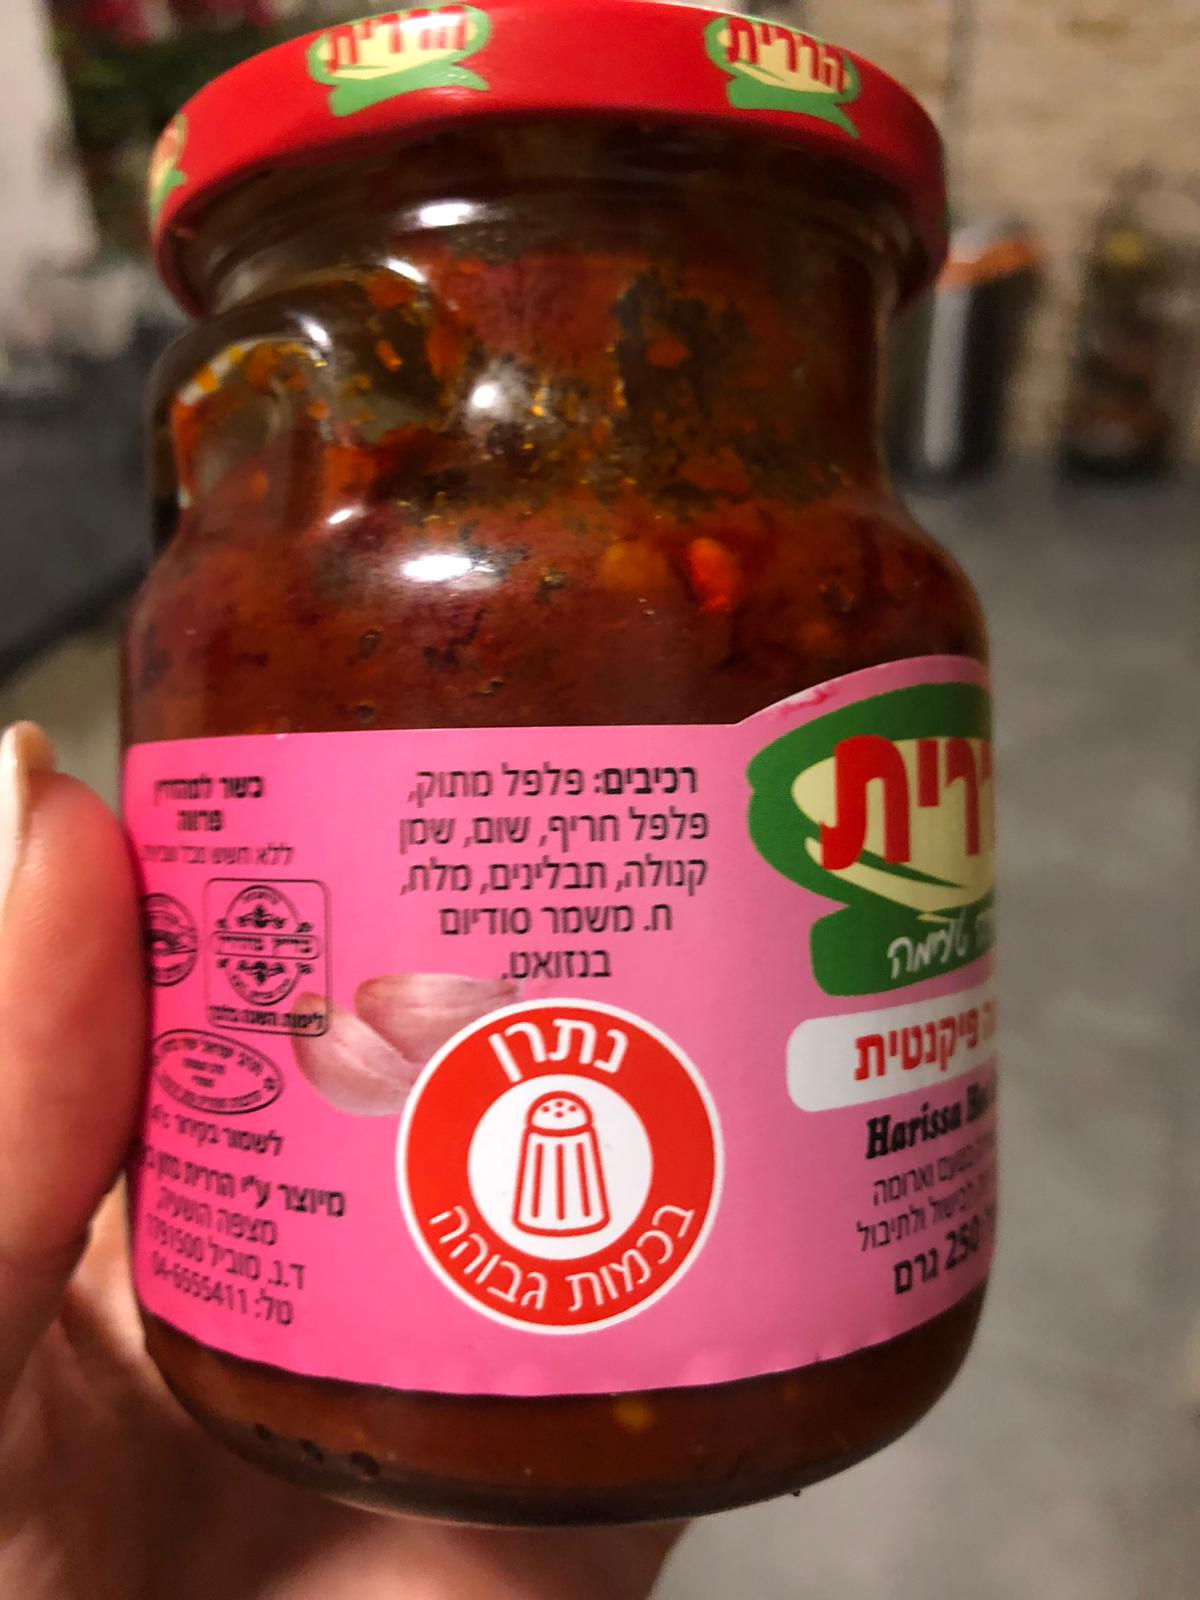salt: (397, 1000, 729, 1335)
